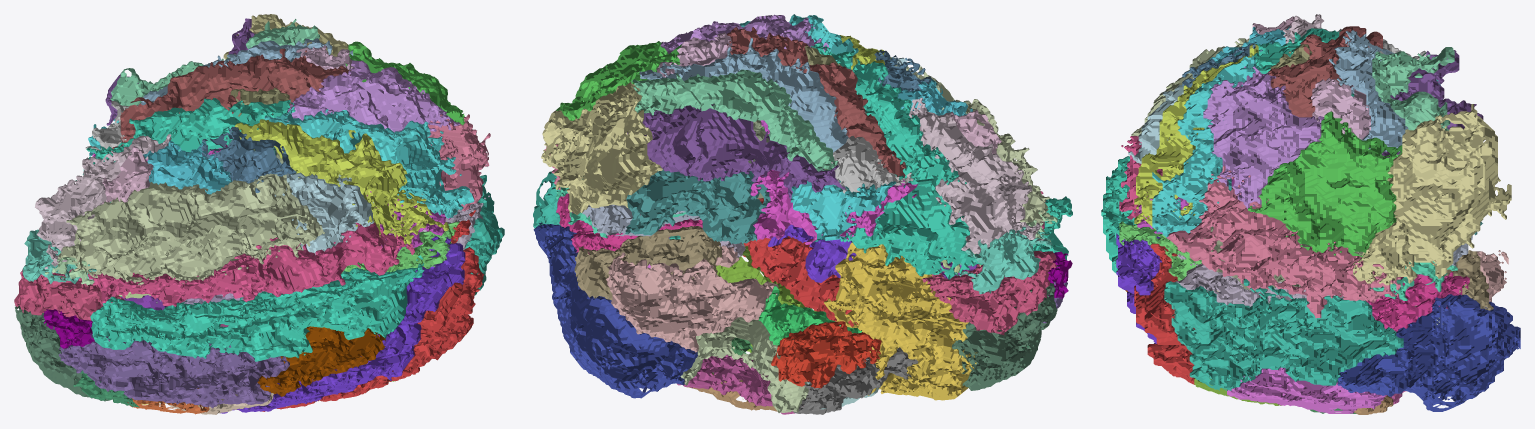
The model's file is wmparc.glb.
The picture shows the model from 3 angles, left to right: view 1: azimuth 30°, elevation 25°; view 2: azimuth 150°, elevation 25°; view 3: azimuth 270°, elevation 25°; orthographic projection. The views are drawn at different scales.
Visible parts, largest first — view 1: 3027_wm-lh-rostralmiddlefrontal, 2028_ctx-rh-superiorfrontal, 3028_wm-lh-superiorfrontal, 2027_ctx-rh-rostralmiddlefrontal, 3024_wm-lh-precentral, 3022_wm-lh-postcentral, 3030_wm-lh-superiortemporal, 2024_ctx-rh-precentral, 3031_wm-lh-supramarginal, 2022_ctx-rh-postcentral, 3035_wm-lh-insula, 3012_wm-lh-lateralorbitofrontal (+26 smaller); view 2: 2035_ctx-rh-insula, 3035_wm-lh-insula, 2011_ctx-rh-lateraloccipital, 2013_ctx-rh-lingual, 3011_wm-lh-lateraloccipital, 3007_wm-lh-fusiform, 3012_wm-lh-lateralorbitofrontal, 3009_wm-lh-inferiortemporal, 3013_wm-lh-lingual, 3015_wm-lh-middletemporal, 3030_wm-lh-superiortemporal, 2014_ctx-rh-medialorbitofrontal (+29 smaller); view 3: 2029_ctx-rh-superiorparietal, 3011_wm-lh-lateraloccipital, 3008_wm-lh-inferiorparietal, 3029_wm-lh-superiorparietal, 2011_ctx-rh-lateraloccipital, 3031_wm-lh-supramarginal, 3022_wm-lh-postcentral, 3024_wm-lh-precentral, 2008_ctx-rh-inferiorparietal, 3009_wm-lh-inferiortemporal, 2022_ctx-rh-postcentral, 3015_wm-lh-middletemporal (+19 smaller).
Part boxes in pixels (x1=…): 3027_wm-lh-rostralmiddlefrontal: x1=58, y1=169, x2=325, y2=285; 2028_ctx-rh-superiorfrontal: x1=90, y1=255, x2=425, y2=361; 3028_wm-lh-superiorfrontal: x1=87, y1=222, x2=414, y2=306; 2027_ctx-rh-rostralmiddlefrontal: x1=58, y1=333, x2=289, y2=408; 3024_wm-lh-precentral: x1=234, y1=119, x2=448, y2=244; 3022_wm-lh-postcentral: x1=264, y1=107, x2=474, y2=218; 3030_wm-lh-superiortemporal: x1=112, y1=48, x2=351, y2=148; 2024_ctx-rh-precentral: x1=220, y1=236, x2=465, y2=413; 3031_wm-lh-supramarginal: x1=287, y1=60, x2=460, y2=135; 2022_ctx-rh-postcentral: x1=239, y1=210, x2=484, y2=411; 3035_wm-lh-insula: x1=57, y1=98, x2=295, y2=249; 3012_wm-lh-lateralorbitofrontal: x1=35, y1=134, x2=171, y2=269; 2035_ctx-rh-insula: x1=823, y1=242, x2=977, y2=400; 3035_wm-lh-insula: x1=811, y1=42, x2=982, y2=279; 2011_ctx-rh-lateraloccipital: x1=533, y1=223, x2=697, y2=398; 2013_ctx-rh-lingual: x1=606, y1=245, x2=778, y2=352; 3011_wm-lh-lateraloccipital: x1=541, y1=82, x2=662, y2=214; 3007_wm-lh-fusiform: x1=627, y1=104, x2=845, y2=199; 3012_wm-lh-lateralorbitofrontal: x1=909, y1=97, x2=1043, y2=254; 3009_wm-lh-inferiortemporal: x1=631, y1=69, x2=838, y2=171; 3013_wm-lh-lingual: x1=625, y1=169, x2=770, y2=243; 3015_wm-lh-middletemporal: x1=639, y1=38, x2=848, y2=152; 3030_wm-lh-superiortemporal: x1=727, y1=27, x2=906, y2=176; 2014_ctx-rh-medialorbitofrontal: x1=922, y1=246, x2=1057, y2=335; 2029_ctx-rh-superiorparietal: x1=1164, y1=278, x2=1403, y2=390; 3011_wm-lh-lateraloccipital: x1=1353, y1=104, x2=1511, y2=285; 3008_wm-lh-inferiorparietal: x1=1248, y1=111, x2=1402, y2=256; 3029_wm-lh-superiorparietal: x1=1167, y1=165, x2=1400, y2=318; 2011_ctx-rh-lateraloccipital: x1=1338, y1=294, x2=1520, y2=411; 3031_wm-lh-supramarginal: x1=1203, y1=66, x2=1324, y2=208; 3022_wm-lh-postcentral: x1=1152, y1=55, x2=1257, y2=237; 3024_wm-lh-precentral: x1=1134, y1=44, x2=1258, y2=229; 2008_ctx-rh-inferiorparietal: x1=1227, y1=367, x2=1386, y2=413; 3009_wm-lh-inferiortemporal: x1=1372, y1=47, x2=1454, y2=130; 2022_ctx-rh-postcentral: x1=1134, y1=243, x2=1240, y2=384; 3015_wm-lh-middletemporal: x1=1329, y1=30, x2=1408, y2=151.
Size of the model in its own units: 183 by 127 by 140.
